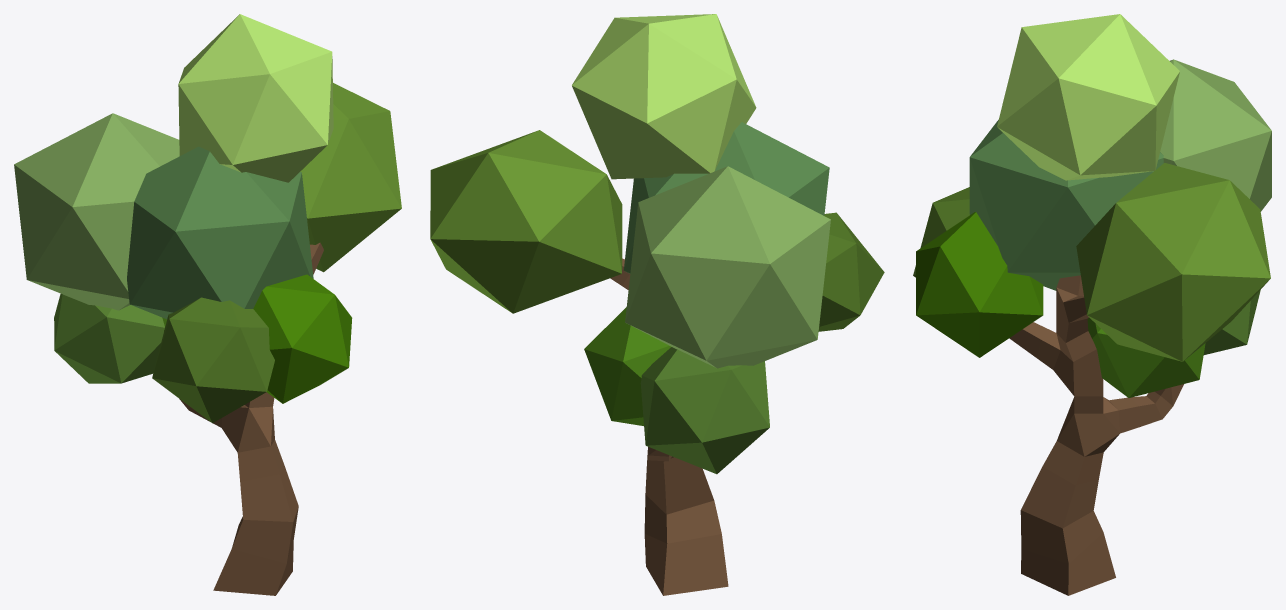
Rendered from Tree #5 BubbleTree.fbx.
The picture shows the model from 3 angles, left to right: view 1: azimuth 30°, elevation 25°; view 2: azimuth 150°, elevation 25°; view 3: azimuth 270°, elevation 25°; orthographic projection. The views are drawn at different scales.
Visible parts, largest first — view 1: Icosphere.007, Icosphere.003, Icosphere.001, Icosphere.004, Plane, Icosphere, Icosphere.002, Icosphere.005; view 2: Icosphere.003, Icosphere.004, Icosphere.001, Icosphere.005, Plane, Icosphere.007, Icosphere.006, Icosphere; view 3: Icosphere.004, Icosphere.001, Plane, Icosphere.007, Icosphere.002, Icosphere.003, Icosphere.006, Icosphere, Icosphere.005.
Boxes of the visible parts, bbox=[...] form: Icosphere.007: bbox=[127, 146, 313, 319]; Icosphere.003: bbox=[14, 113, 179, 310]; Icosphere.001: bbox=[178, 14, 333, 182]; Icosphere.004: bbox=[300, 83, 401, 272]; Plane: bbox=[179, 242, 323, 595]; Icosphere: bbox=[152, 297, 274, 423]; Icosphere.002: bbox=[253, 274, 352, 403]; Icosphere.005: bbox=[54, 294, 164, 383]; Icosphere.003: bbox=[625, 166, 830, 368]; Icosphere.004: bbox=[430, 130, 622, 313]; Icosphere.001: bbox=[572, 14, 756, 179]; Icosphere.005: bbox=[640, 347, 769, 474]; Plane: bbox=[610, 258, 728, 595]; Icosphere.007: bbox=[623, 122, 829, 273]; Icosphere.006: bbox=[584, 307, 671, 425]; Icosphere: bbox=[818, 212, 884, 331]; Icosphere.004: bbox=[1076, 163, 1270, 361]; Icosphere.001: bbox=[997, 14, 1179, 180]; Plane: bbox=[1009, 275, 1183, 595]; Icosphere.007: bbox=[969, 120, 1163, 290]; Icosphere.002: bbox=[916, 212, 1043, 357]; Icosphere.003: bbox=[1160, 59, 1271, 211]; Icosphere.006: bbox=[1087, 317, 1205, 397]; Icosphere: bbox=[913, 187, 969, 277]; Icosphere.005: bbox=[1203, 290, 1260, 354].
Size of the model in its own units: 711 by 1013 by 579.
